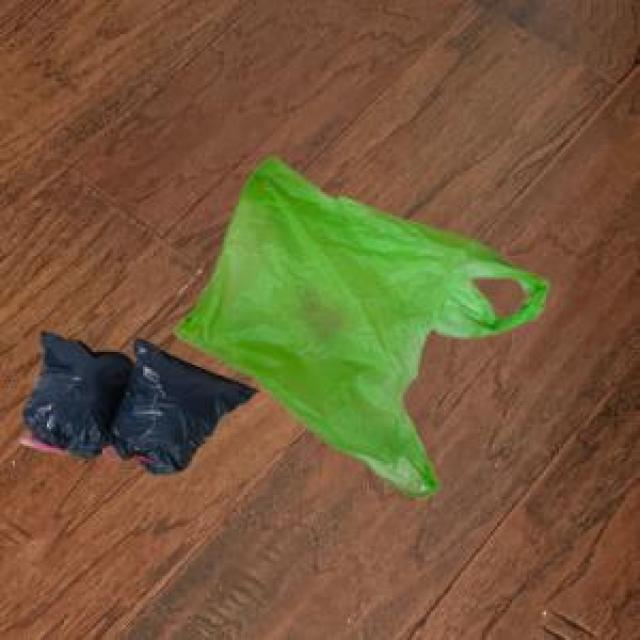miscellaneous trash: (17, 329, 254, 472)
